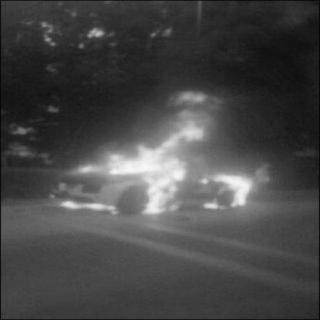Fire: (46, 88, 222, 216), (199, 170, 257, 210)
